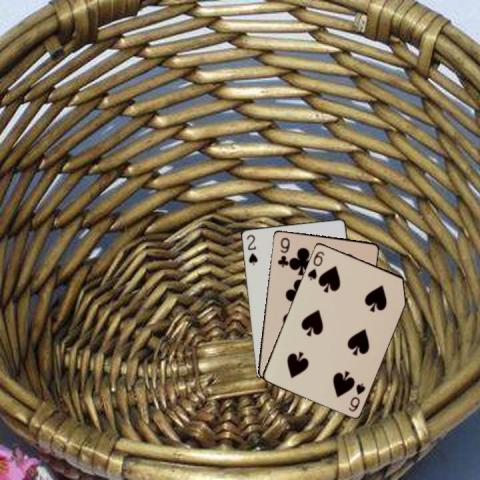2s: (243, 231, 259, 267)
6s: (345, 380, 367, 413), (305, 248, 326, 281)
9c: (275, 234, 290, 268)
